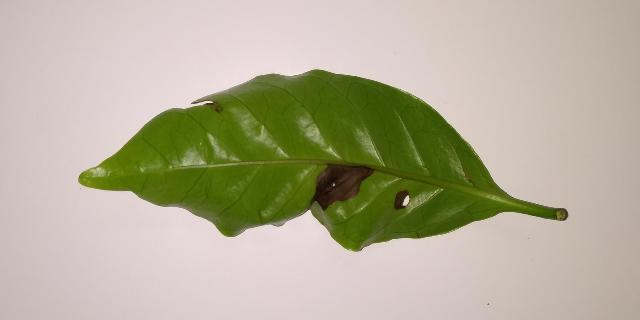rust: (310, 163, 376, 210), (394, 190, 409, 210)
